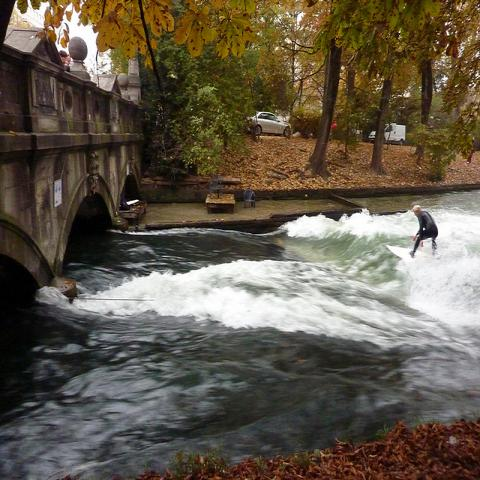car: (248, 113, 291, 137)
truck: (369, 123, 405, 146)
